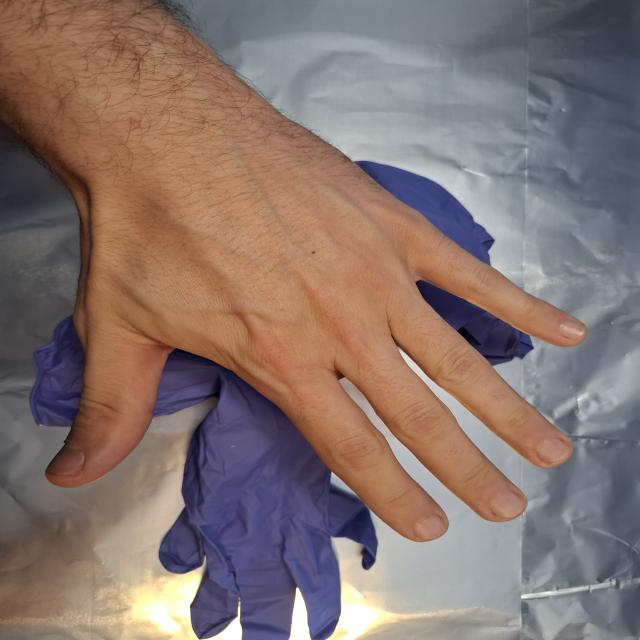glove_off: (41, 90, 591, 546)
